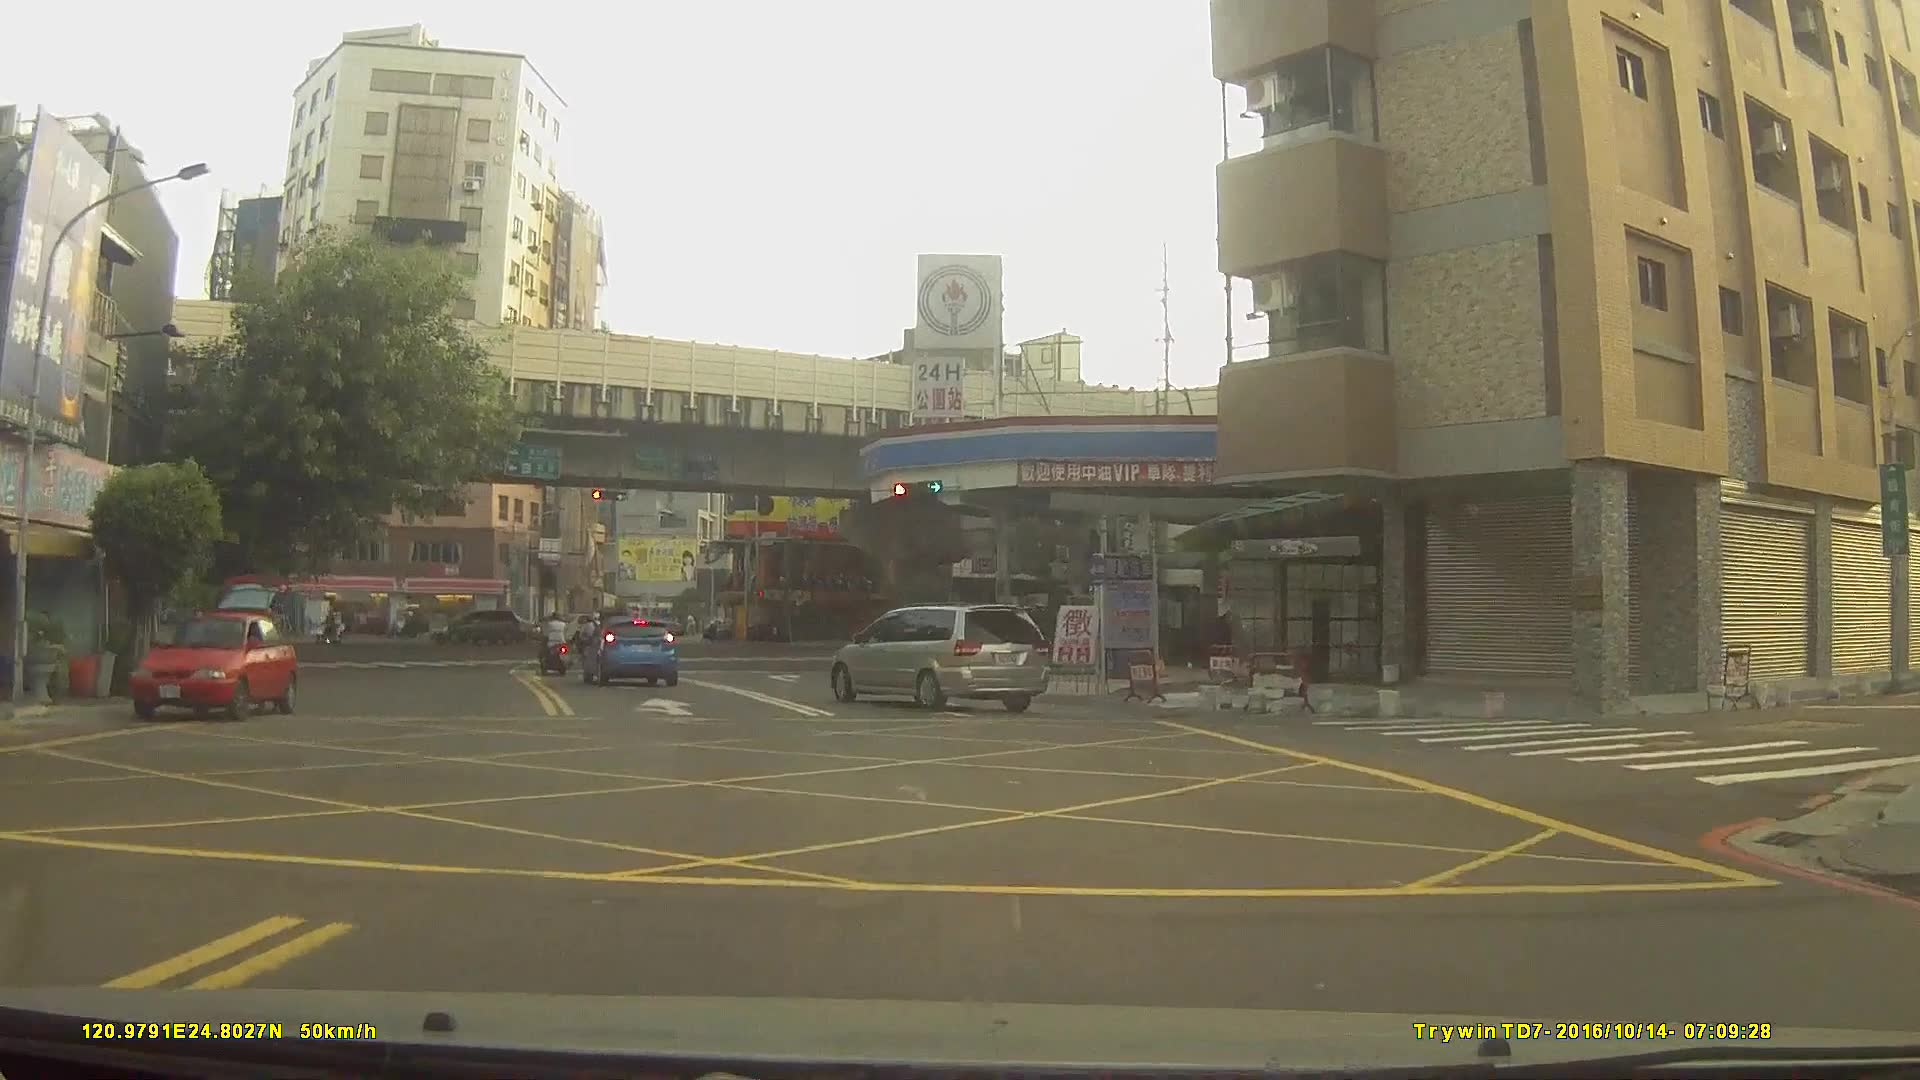rider: (536, 613, 571, 675), (314, 607, 345, 647)
vehicle: (830, 601, 1049, 710), (128, 606, 300, 721), (577, 615, 678, 687), (426, 610, 524, 647), (537, 604, 616, 639)
